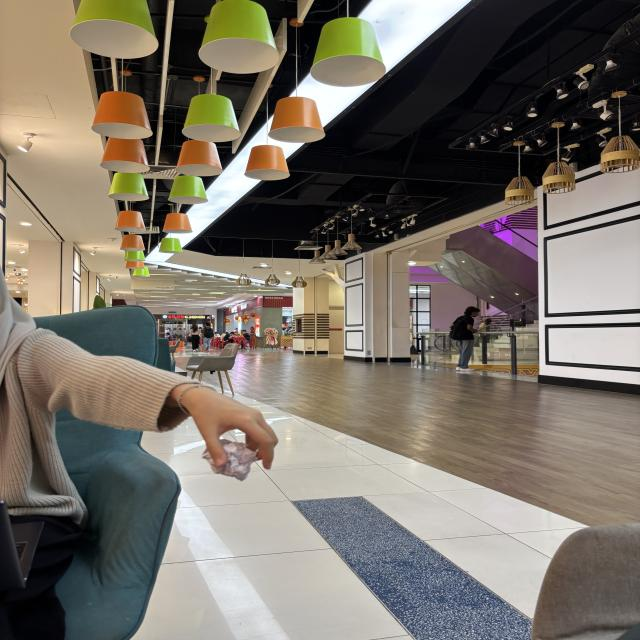crumpled_paper: (200, 438, 264, 482)
